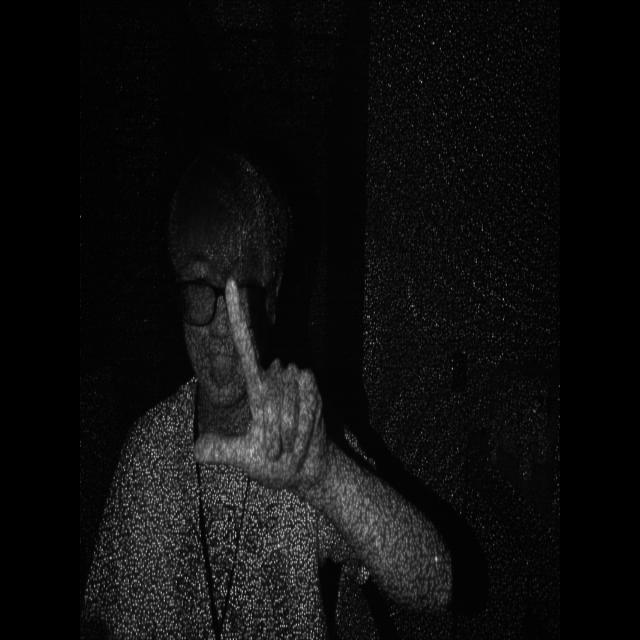L: (179, 264, 332, 499)
